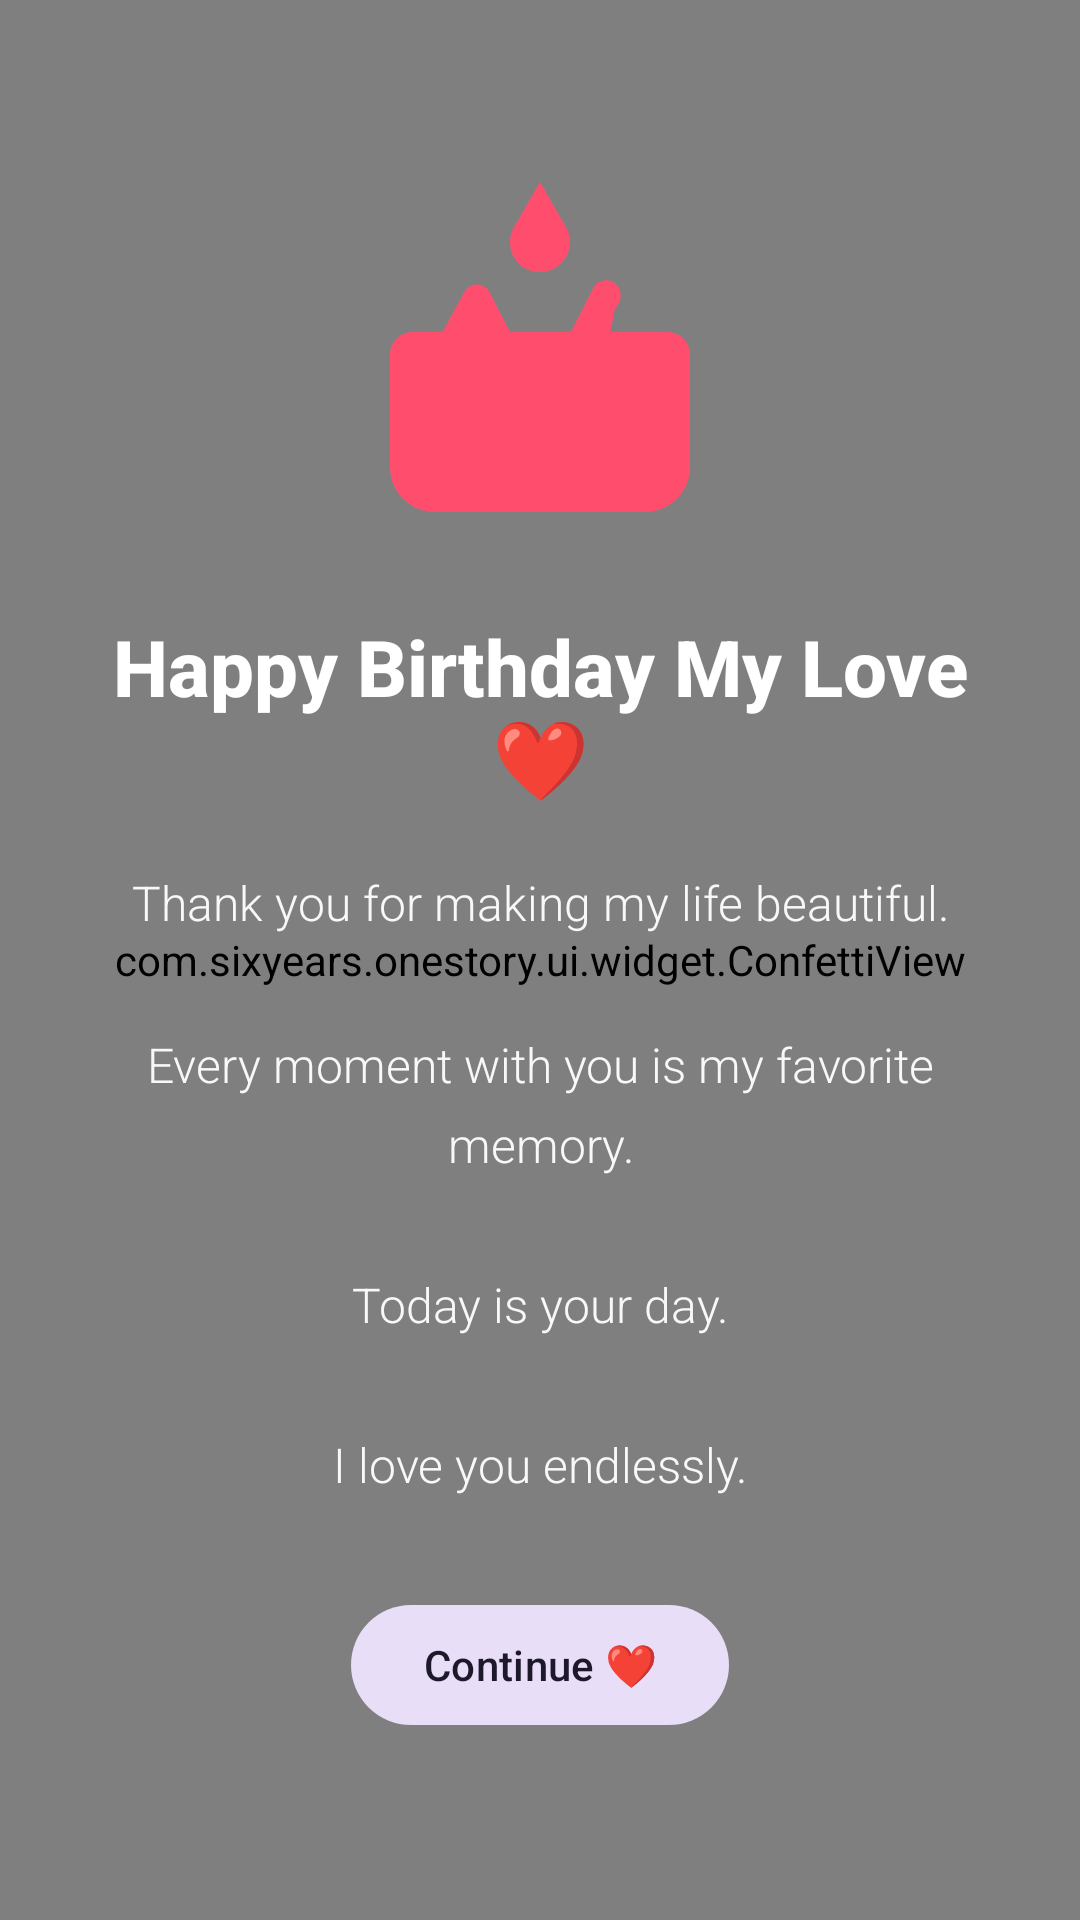

Named icons in this screenshot (1080 × 1920) and their centers, (x,y):
cake: (540,347)
